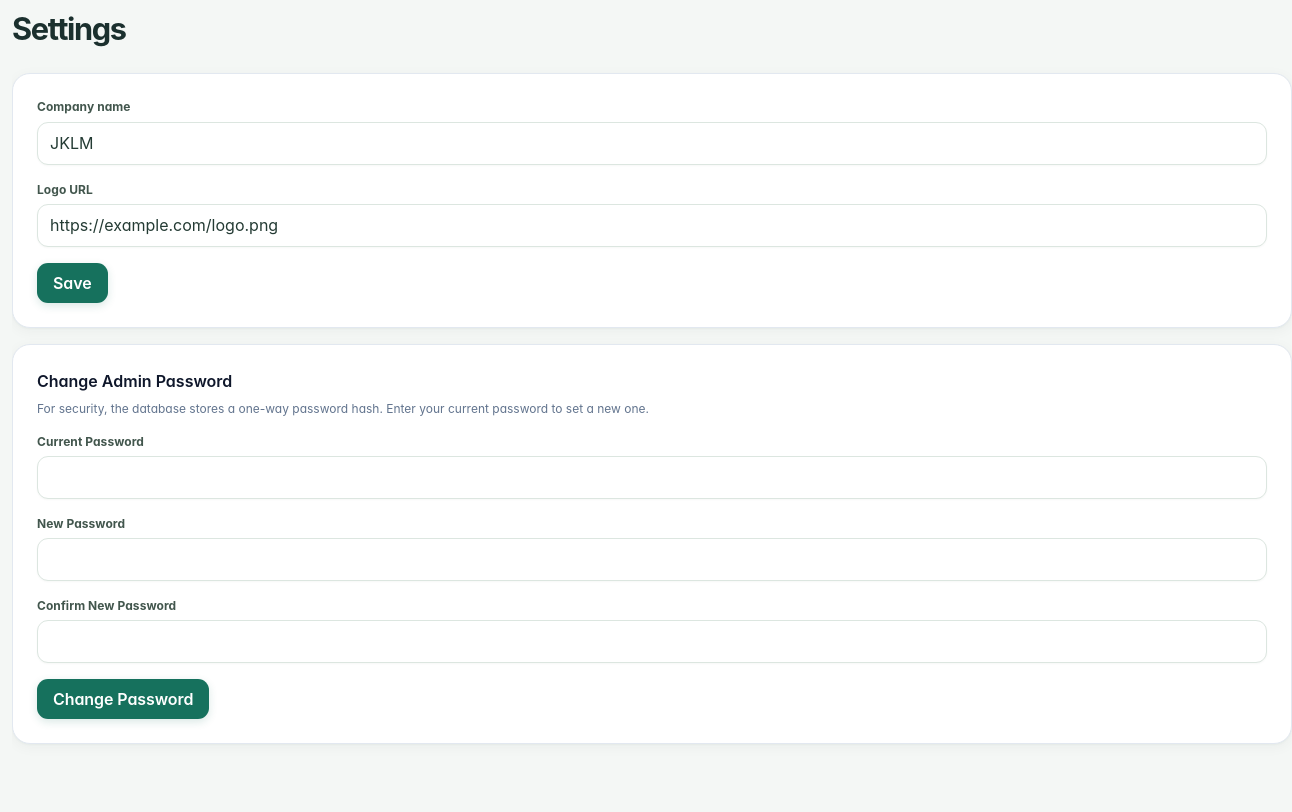
it: validates company name and logo URL before saving
This screenshot has width=1292, height=812.
Clear the field labelled "Company name": {"x": 652, "y": 143} [37,122,1267,164]
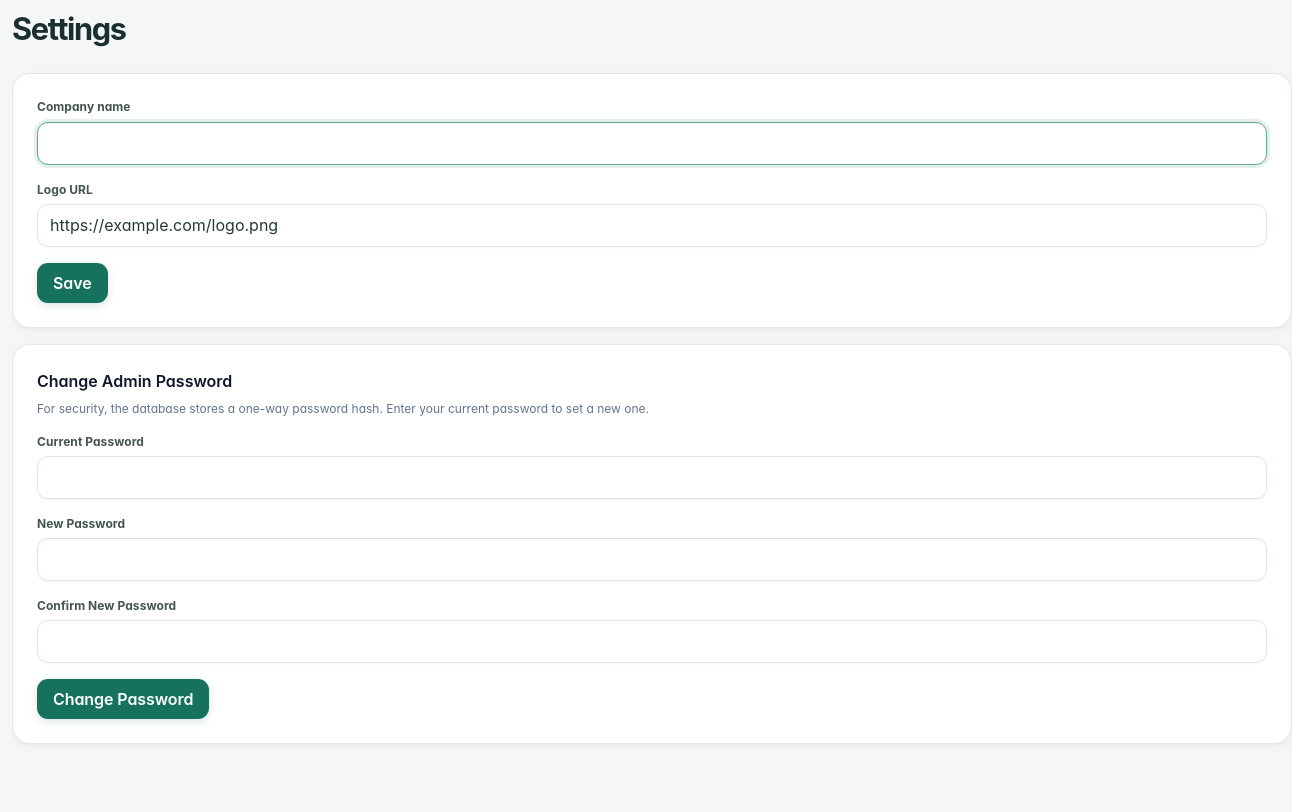
In the field labelled "Logo URL": {"x": 652, "y": 225} [37,204,1267,247], type "javascript:alert(1)"
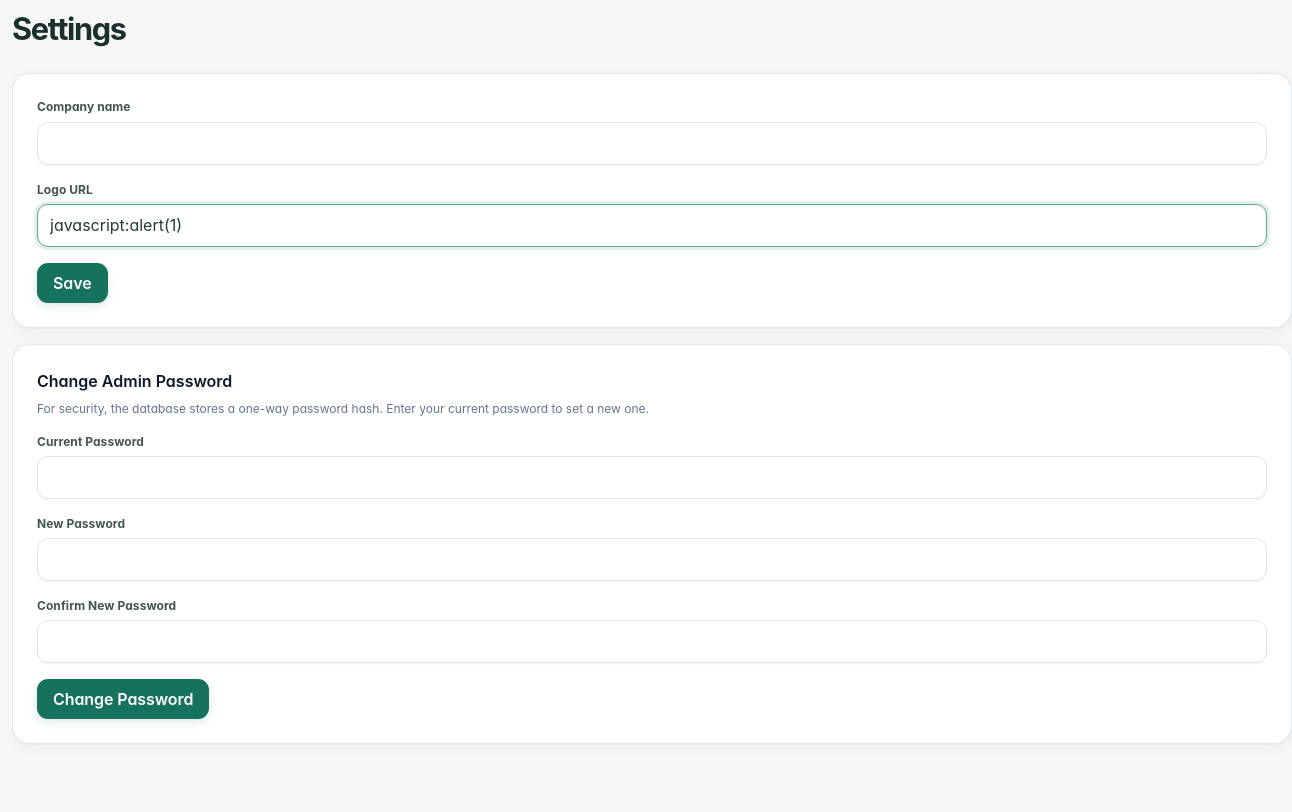
Click the button "Save": {"x": 72, "y": 283} [37,263,108,303]
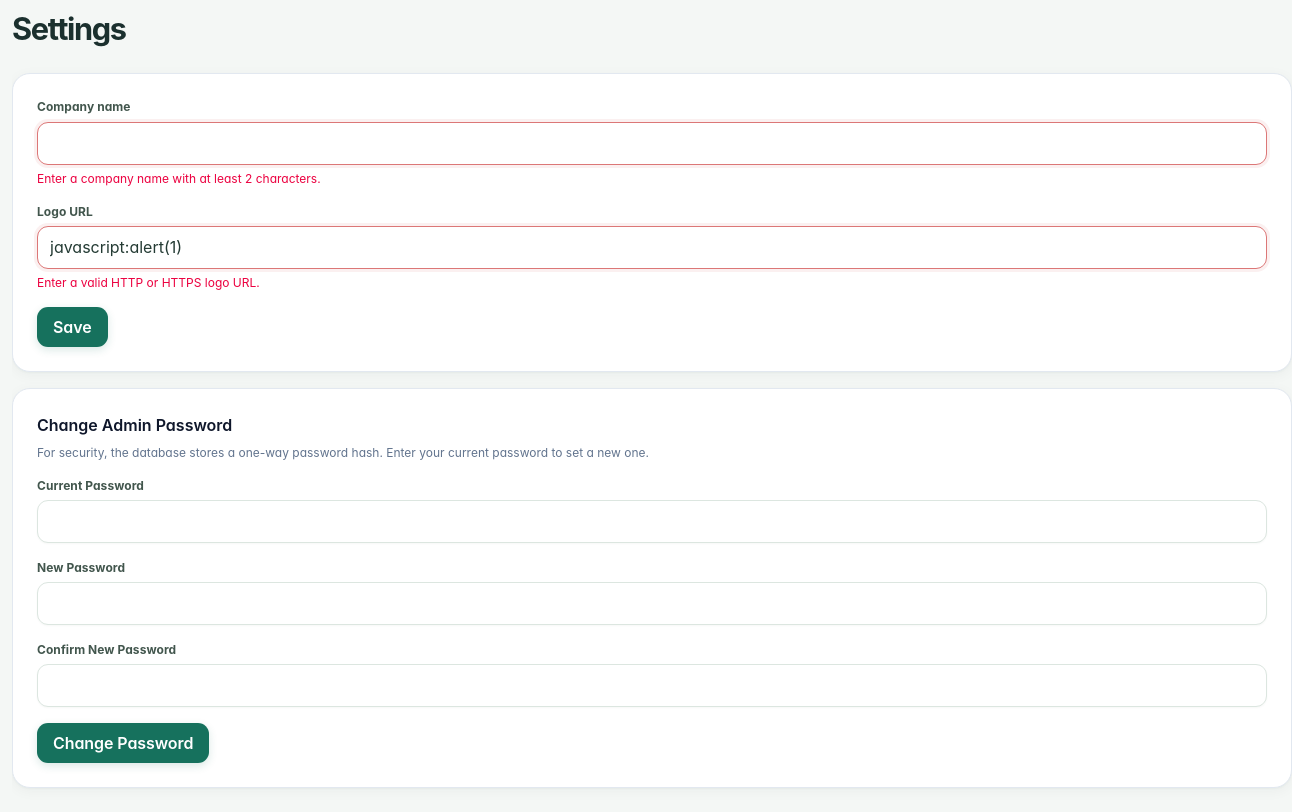
Now the text "Enter a company name with at least 2 characters." is shown, box [37,170,321,186]
Now the text "Enter a valid HTTP or HTTPS logo URL." is shown, box [37,275,260,290]
